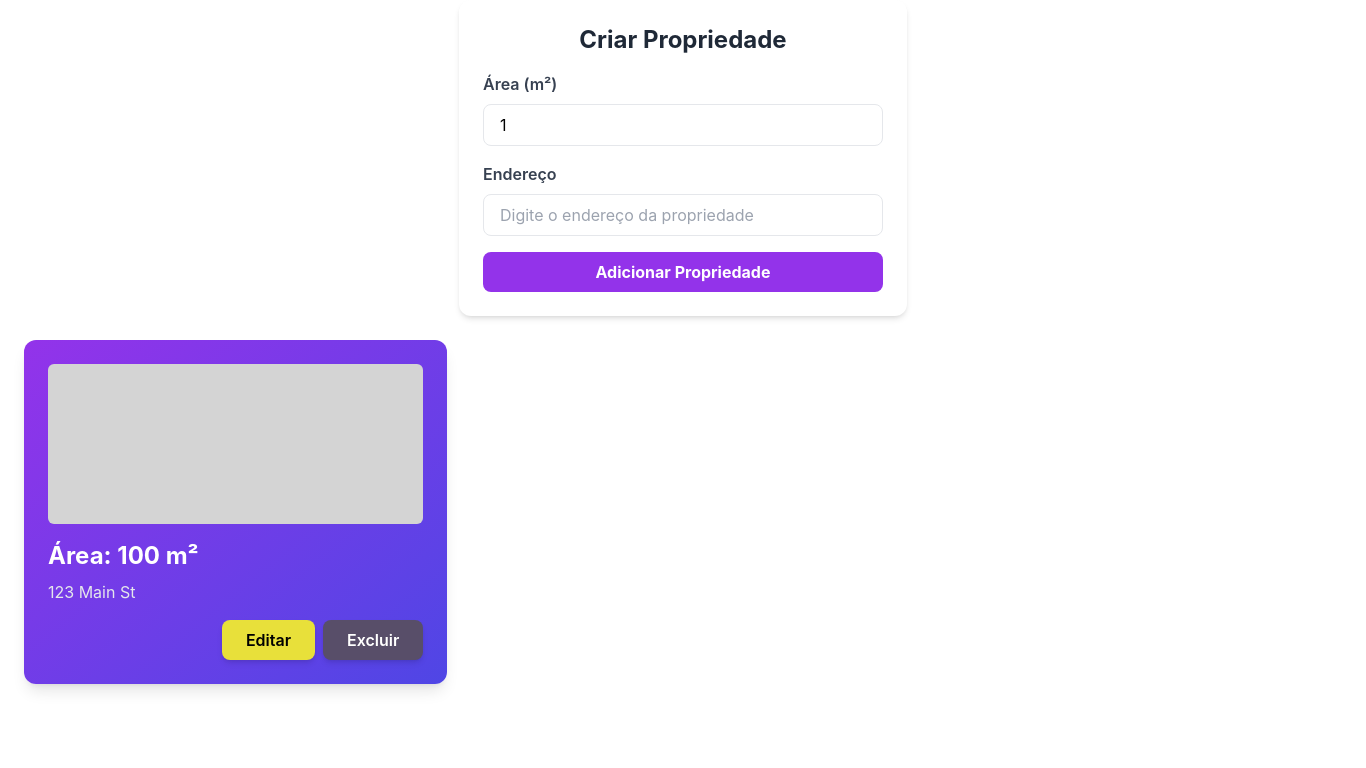
Test: PropertyContainer › deletes a property
expect the text "123 Main St" is shown: met, box [48,582,135,602]
Note: Clica no botão de excluir
Step 1. Click the button "Excluir" → click(373, 640), box [323,620,423,660]
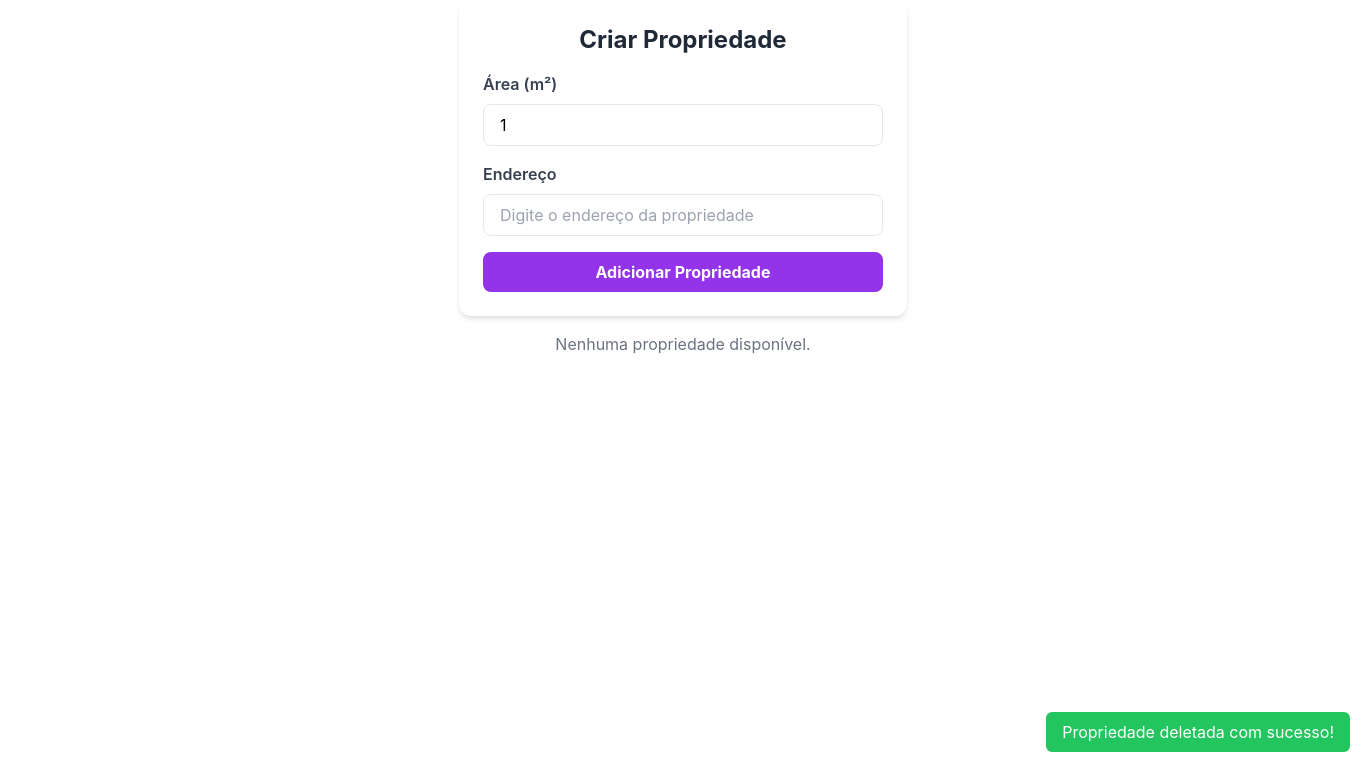
expect the text "123 Main St" is gone: met
